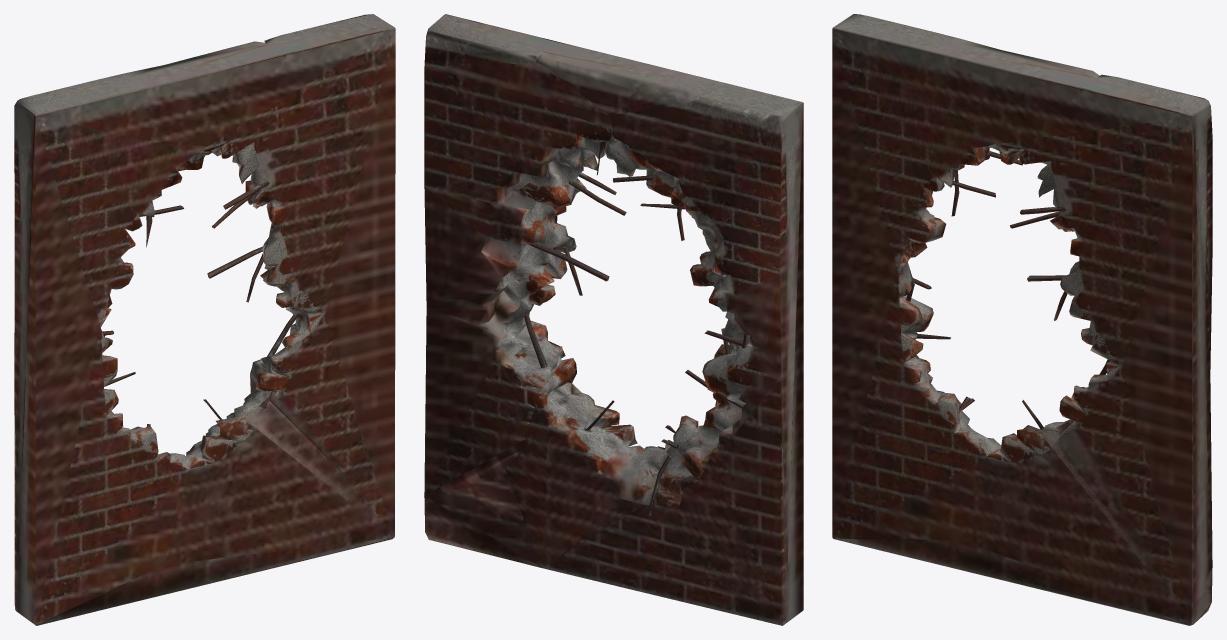
File: modular_wall_broken.glb
3 renders of one model, left to right at view 1: azimuth 30°, elevation 25°; view 2: azimuth 150°, elevation 25°; view 3: azimuth 330°, elevation 25°, orthographic.
Parts seen in each view (by area): view 1: Meshy_AI_modular_wall_broken_3d_20261028_texture; view 2: Meshy_AI_modular_wall_broken_3d_20261028_texture; view 3: Meshy_AI_modular_wall_broken_3d_20261028_texture.
Part boxes in pixels (x1,y1,x2,y2): Meshy_AI_modular_wall_broken_3d_20261028_texture: (14,14,395,625); Meshy_AI_modular_wall_broken_3d_20261028_texture: (424,14,803,625); Meshy_AI_modular_wall_broken_3d_20261028_texture: (832,14,1212,625).
Bounding box in the file's own units: 2.21 × 3 × 0.2889.
Materials: 1 (1 with a texture image).
